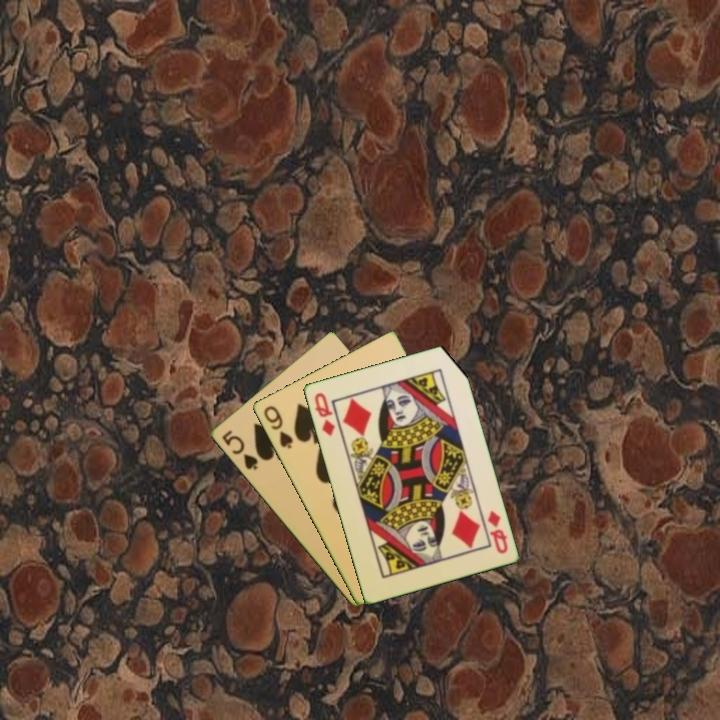5s: (218, 426, 260, 473)
9s: (260, 402, 296, 452)
Qd: (483, 507, 510, 556), (311, 389, 337, 439)
